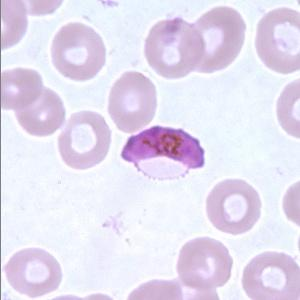Infected: (121, 127, 207, 180)
Uninfected: (187, 5, 248, 72), (143, 16, 204, 79), (205, 178, 264, 236), (49, 22, 106, 82), (58, 110, 111, 171), (107, 69, 157, 133), (254, 7, 300, 74), (4, 246, 62, 297), (178, 237, 232, 290), (243, 252, 300, 300), (13, 90, 64, 138), (0, 67, 47, 112)
